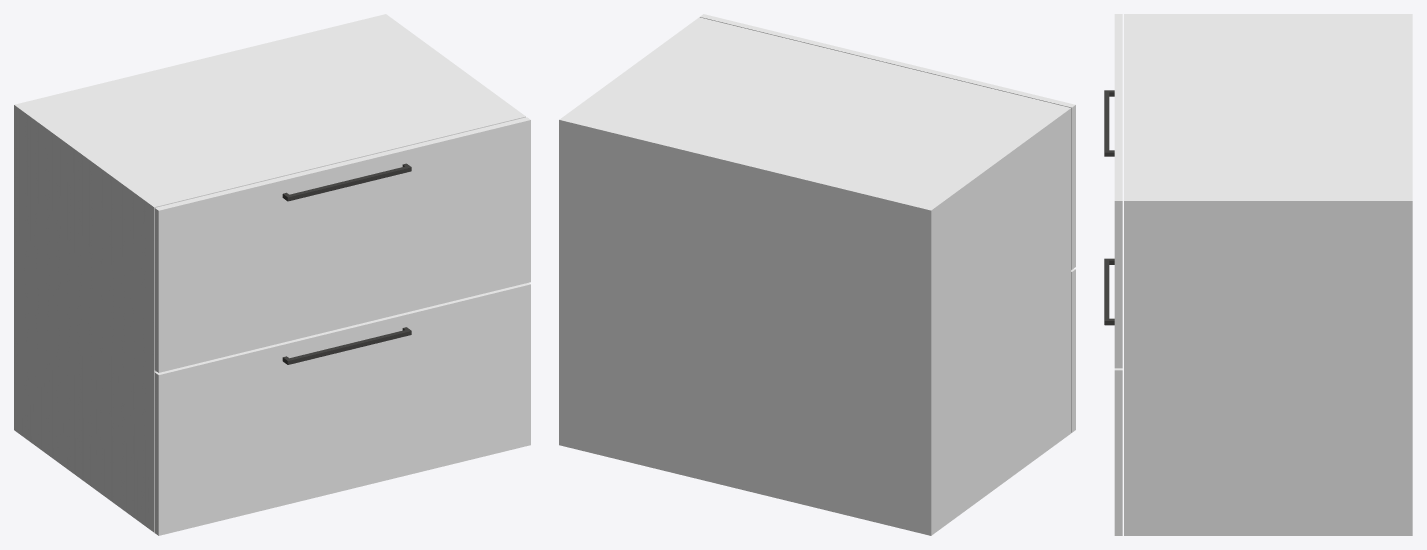
The model's file is lower-cabinet.obj.
3 renders of one model, left to right at view 1: azimuth 30°, elevation 25°; view 2: azimuth 150°, elevation 25°; view 3: azimuth 270°, elevation 25°, orthographic. The views are drawn at different scales.
Visible parts, largest first — view 1: lower-cabinet; view 2: lower-cabinet; view 3: lower-cabinet.
Boxes of the visible parts, x1,y1,x2,y2 form: lower-cabinet: (14,14,530,535); lower-cabinet: (559,14,1075,535); lower-cabinet: (1104,14,1412,535).
Size of the model in its own units: 1.36 by 1.14 by 0.9474.
Materials: 2 (2 with a texture image).
